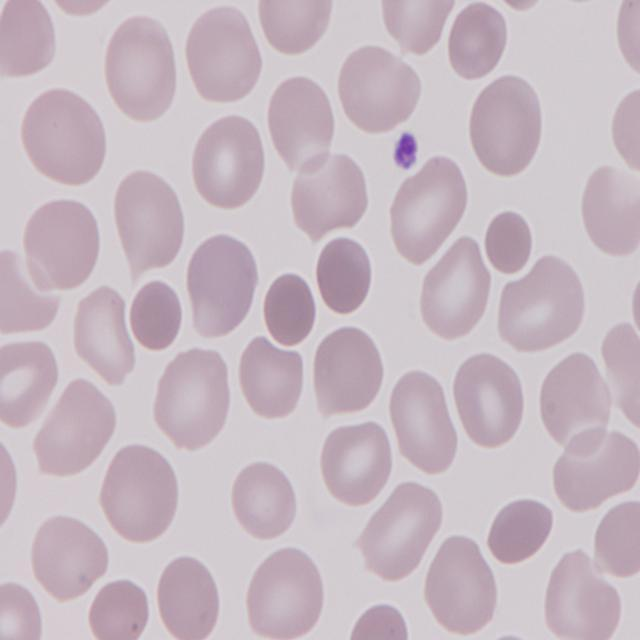RBC: (19, 86, 108, 190), (100, 12, 180, 126), (387, 152, 467, 264), (494, 259, 587, 355), (182, 3, 264, 108), (358, 481, 441, 584), (336, 41, 424, 138), (150, 348, 230, 454), (99, 443, 181, 546), (37, 382, 122, 481), (20, 194, 104, 294), (388, 370, 464, 480), (420, 531, 498, 637), (190, 112, 270, 215), (185, 232, 262, 339), (113, 168, 187, 278), (468, 75, 546, 179), (420, 238, 496, 344), (245, 543, 328, 640), (264, 70, 339, 176), (288, 144, 371, 237), (311, 324, 388, 421), (451, 354, 526, 453), (318, 420, 399, 510), (29, 511, 110, 600), (70, 283, 135, 392), (543, 552, 623, 640), (576, 160, 640, 260), (228, 459, 298, 547), (236, 338, 308, 421), (0, 336, 62, 432), (153, 555, 223, 640), (446, 0, 513, 82), (488, 496, 556, 566), (254, 0, 333, 59), (0, 0, 59, 78), (379, 0, 454, 60), (89, 576, 152, 640), (592, 493, 640, 577), (342, 600, 416, 640), (609, 82, 640, 176), (0, 577, 43, 640), (40, 0, 130, 22)
Spherocyte: (313, 234, 375, 320), (258, 269, 318, 346), (128, 274, 185, 352), (483, 211, 538, 276)
